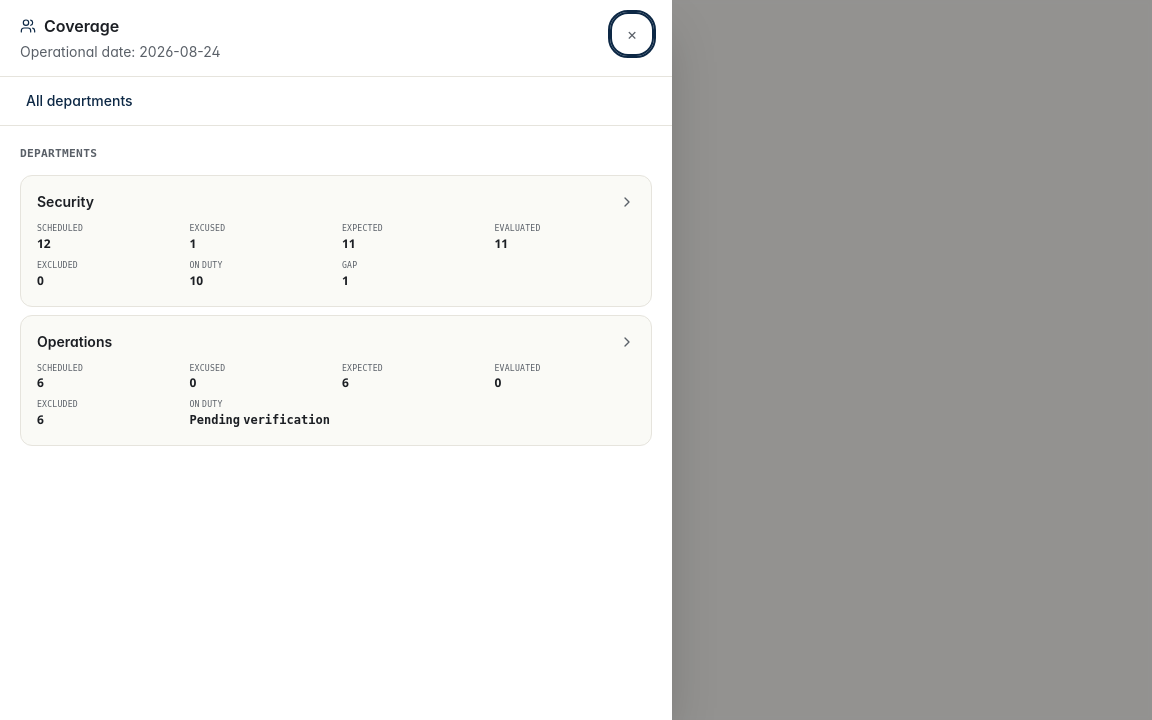
Test: WorkforceCoverageSheet › loads only when opened and narrows hierarchy without rendering employee identity
Click the button "Security" at (65, 201), box 21,176 -> 651,306
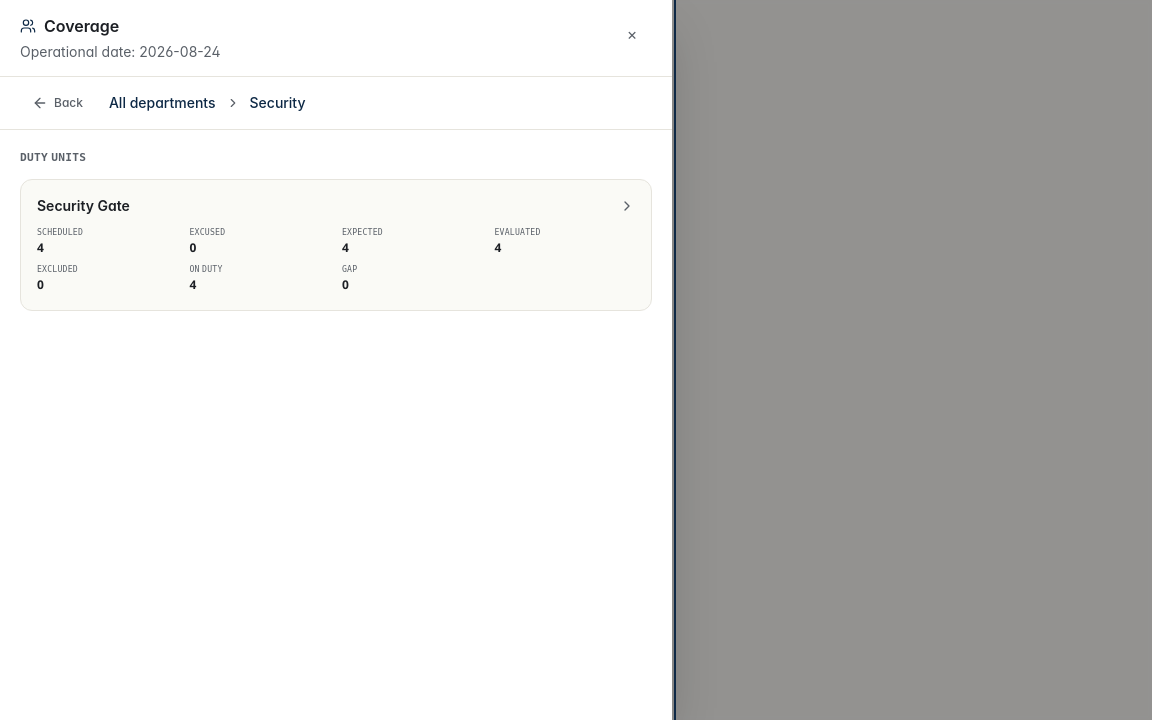
Click the button "Security Gate" at (83, 205), box 21,180 -> 651,310
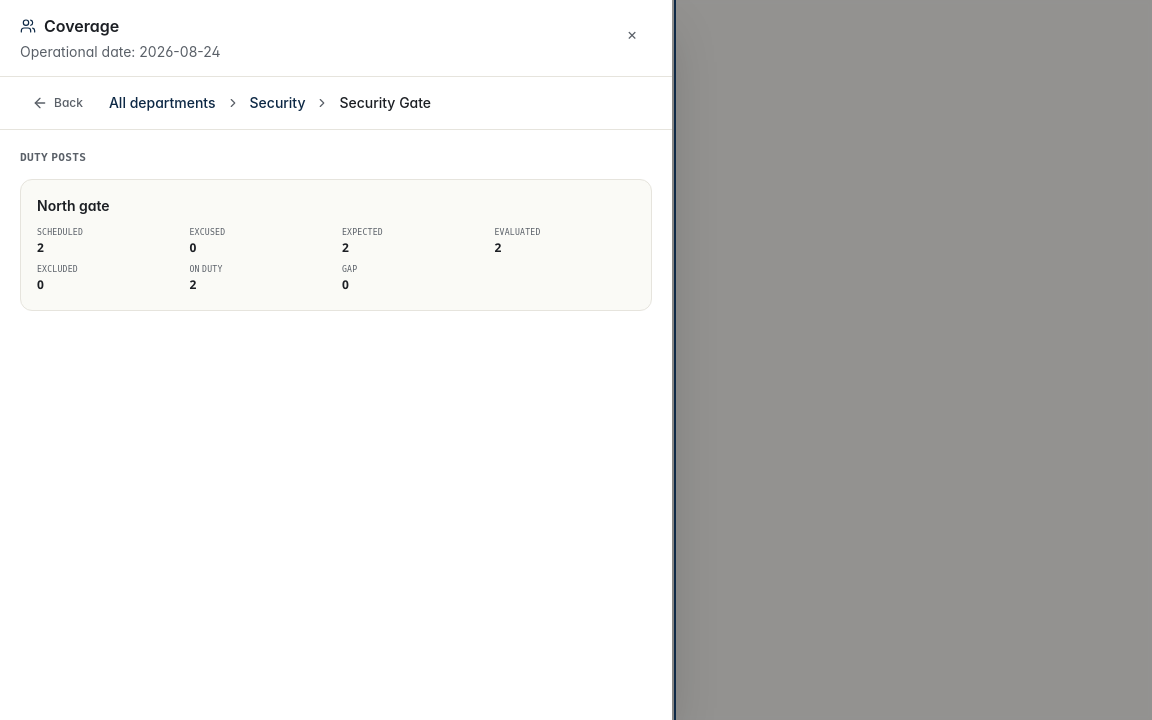
Expected: the text "North gate" is shown, 37,196 -> 110,216
